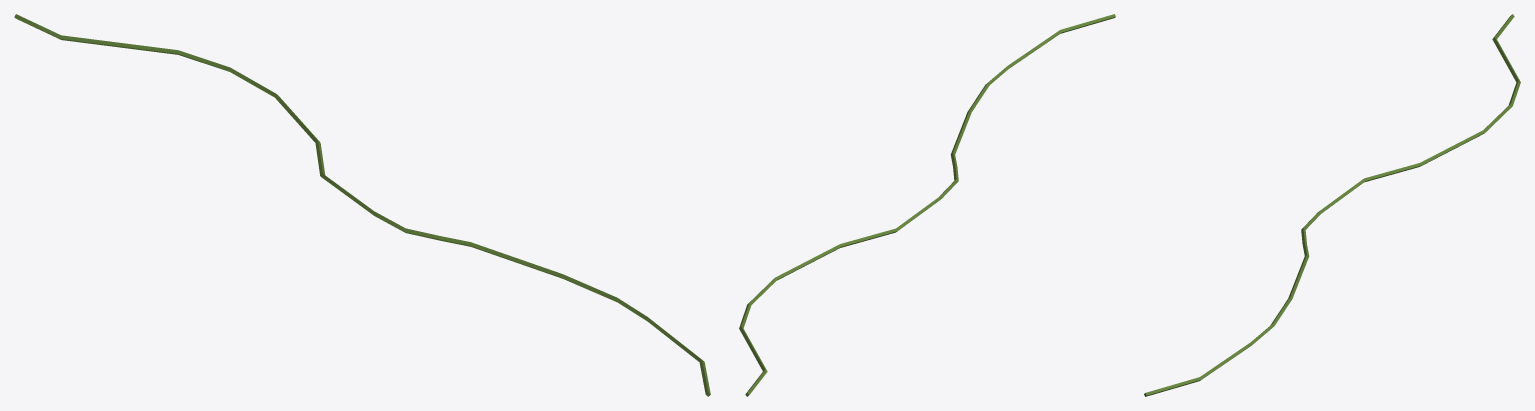
Rendered from SM_liana_ground_03.fbx.
3 views of the same model, side by side, from view 1: azimuth 30°, elevation 25°; view 2: azimuth 150°, elevation 25°; view 3: azimuth 330°, elevation 25° (orthographic). The views are drawn at different scales.
Parts seen in each view (by area): view 1: Line023; view 2: Line023; view 3: Line023.
Part boxes in pixels (<box>): Line023: <box>14,14,710,396</box>; Line023: <box>739,14,1115,396</box>; Line023: <box>1144,14,1520,396</box>.
Size of the model in its own units: 75.3 by 2.03 by 436.
